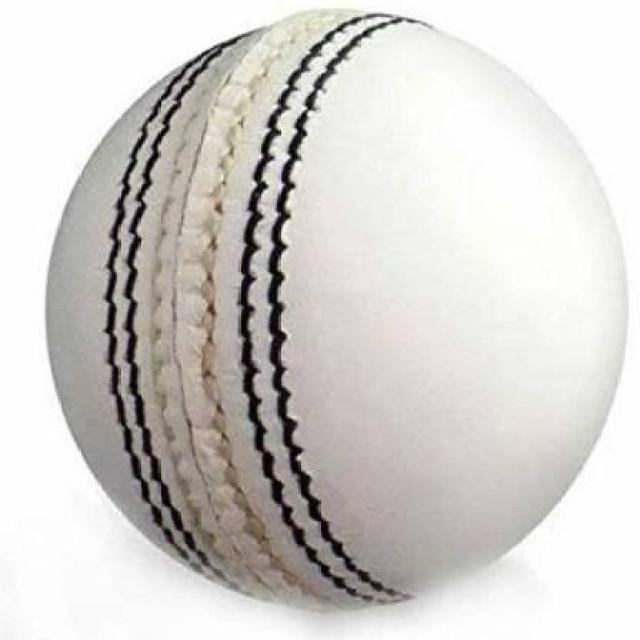ball: (48, 12, 629, 608)
